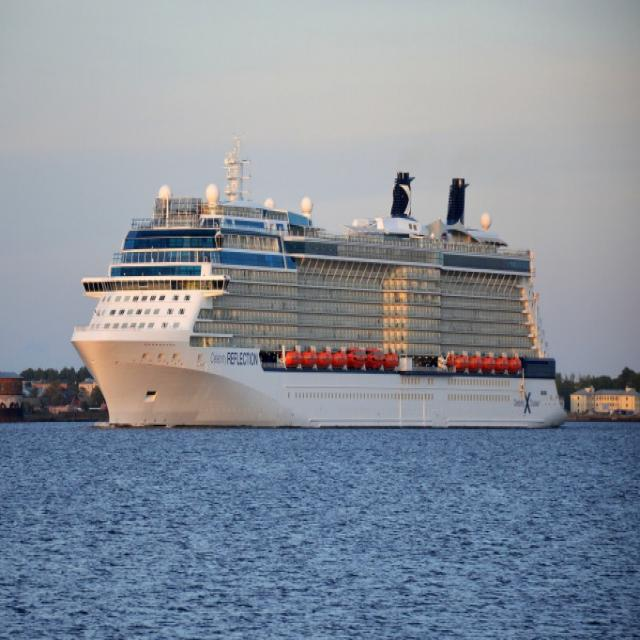cruises: (63, 128, 572, 436)
